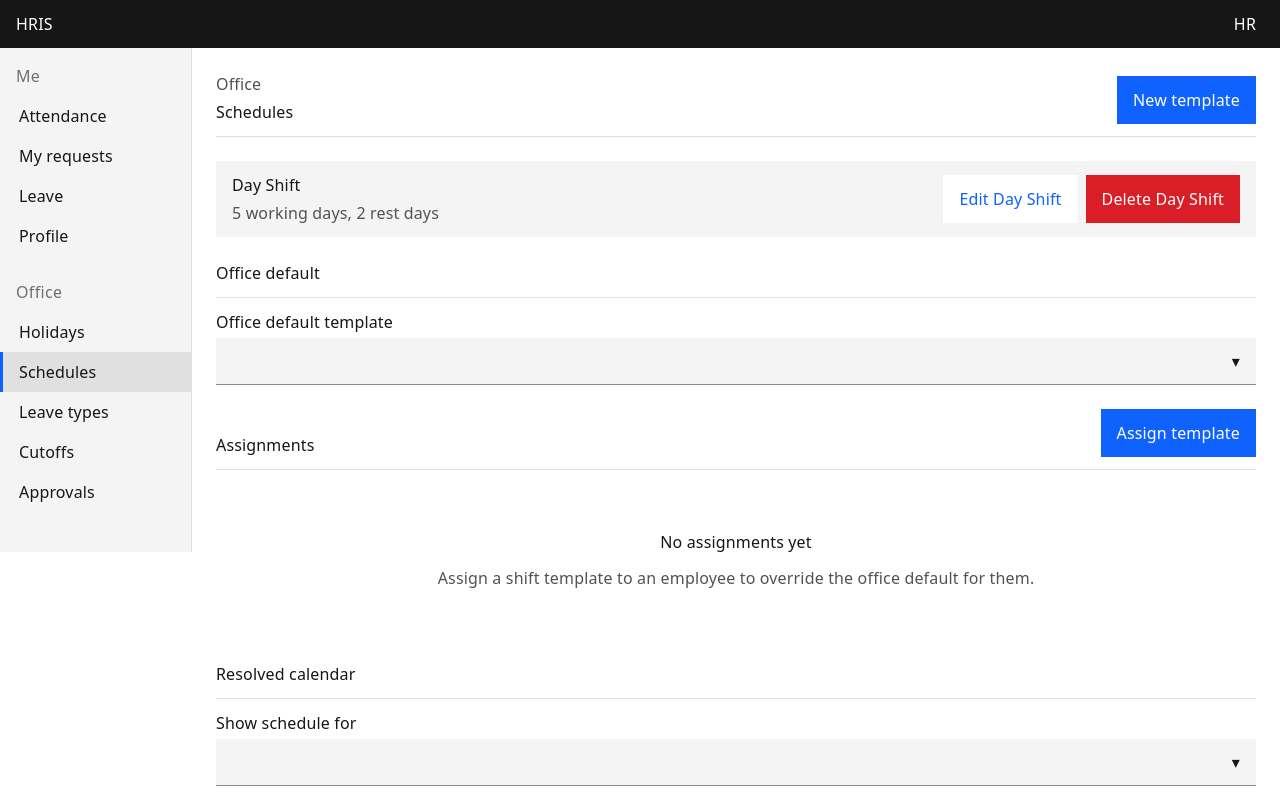
/office/schedules — delete a template › surfaces a 422 template_in_use error via InlineNotification instead of crashing
Click the button "Delete Day Shift": (1163, 199) [1086,175,1240,223]
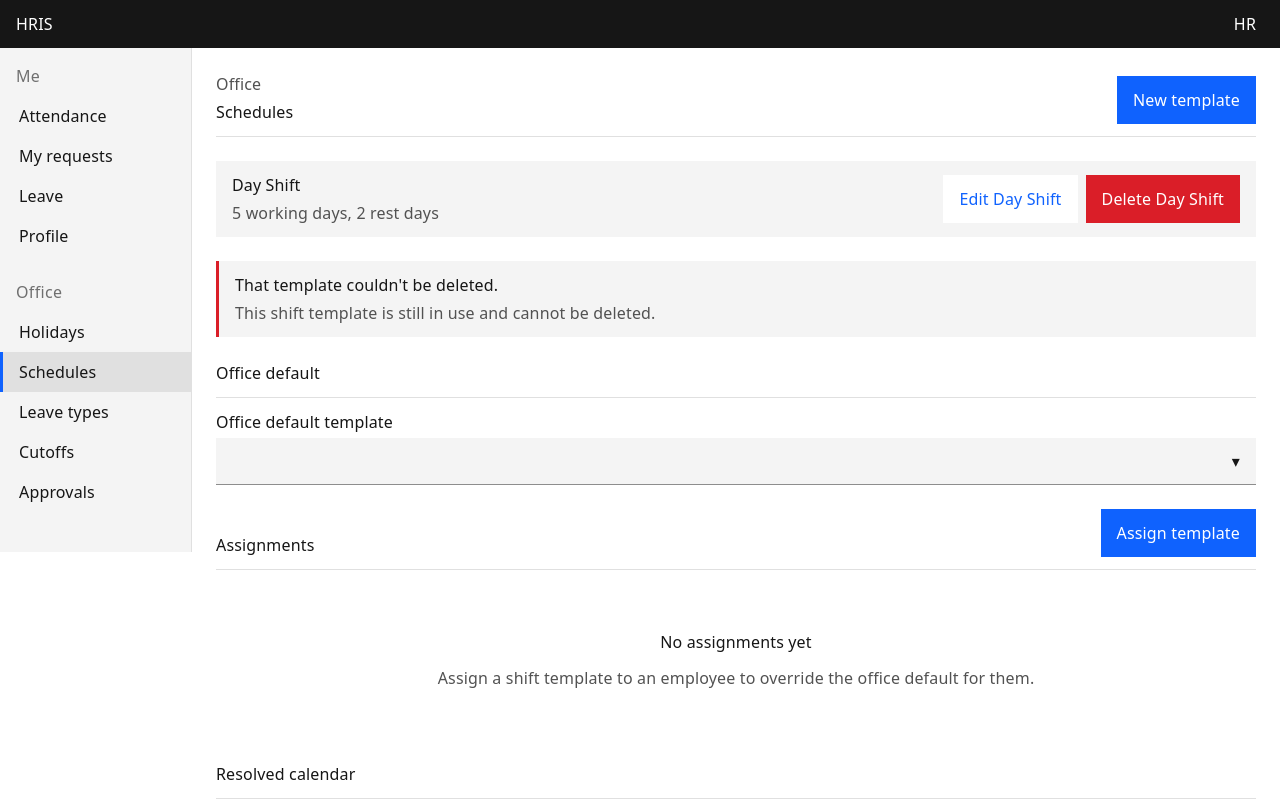
Expected: the text "Day Shift" is shown, [232,173,300,197]
Expected: the text "This shift template is still in use and cannot be deleted." is shown, [235,302,656,324]
